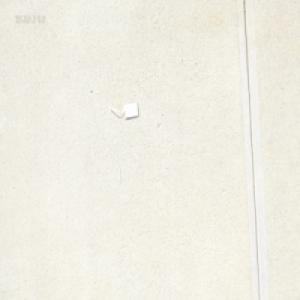LuggageTag: (107, 101, 139, 118)
